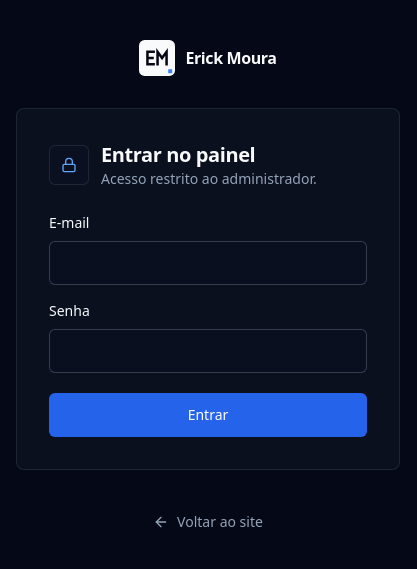
Scenario: AdminApp — login › valida os campos antes de chamar a autenticação
Click the button "Entrar" at x=208, y=415, box [49,393,367,437]
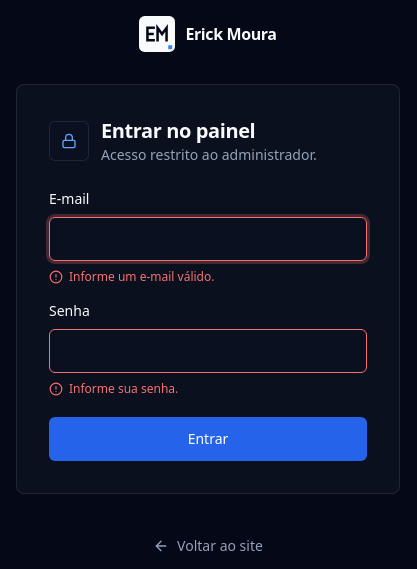
expect the text "Informe um e-mail válido." is shown: met, box [49,268,214,285]
expect the text "Informe sua senha." is shown: met, box [49,380,178,397]
